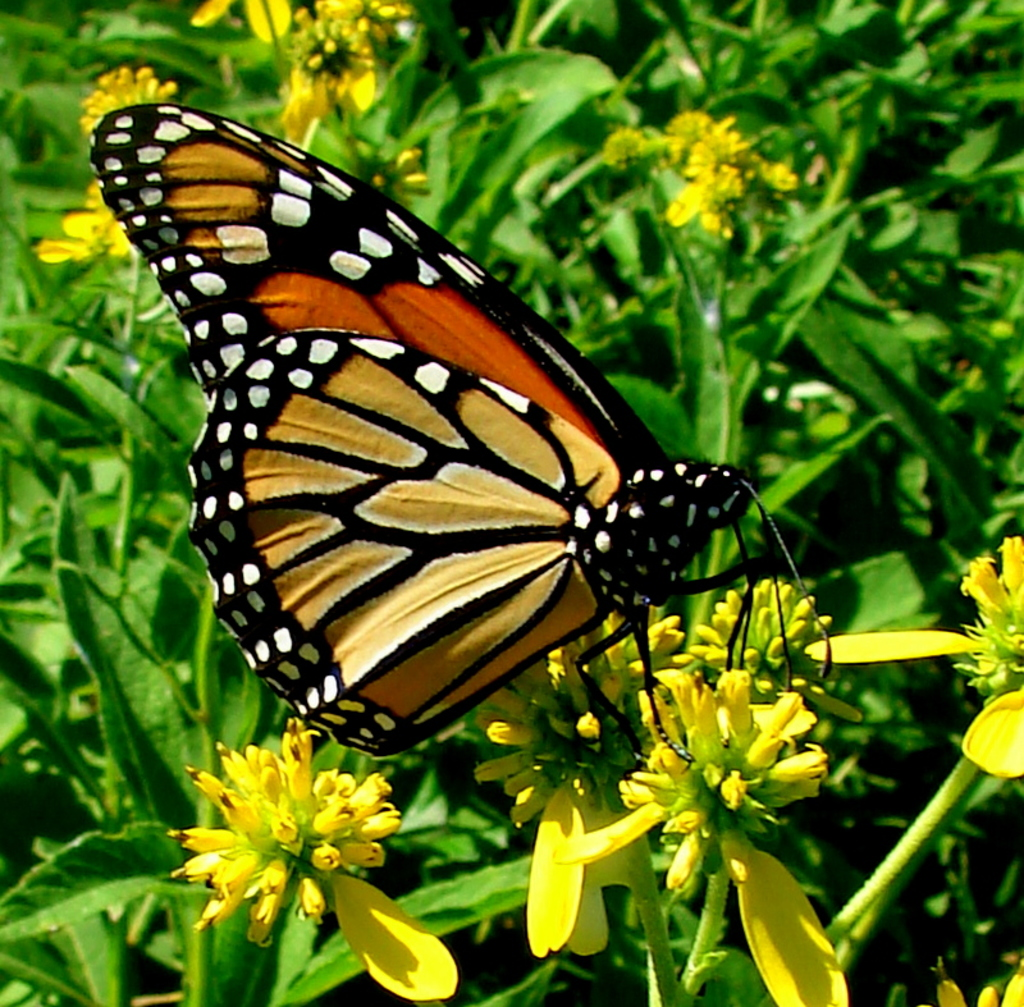Butterfly: (80, 77, 794, 771)
